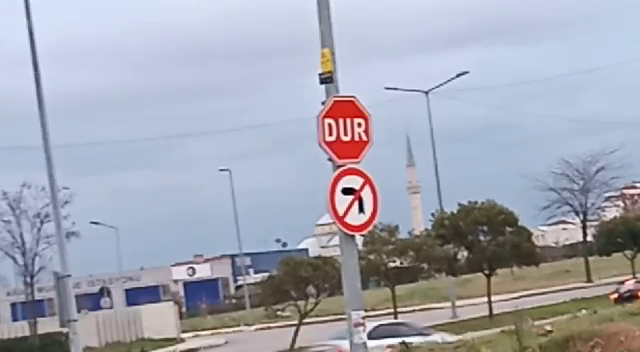no_left: (323, 163, 382, 237)
stop: (314, 92, 376, 167)
